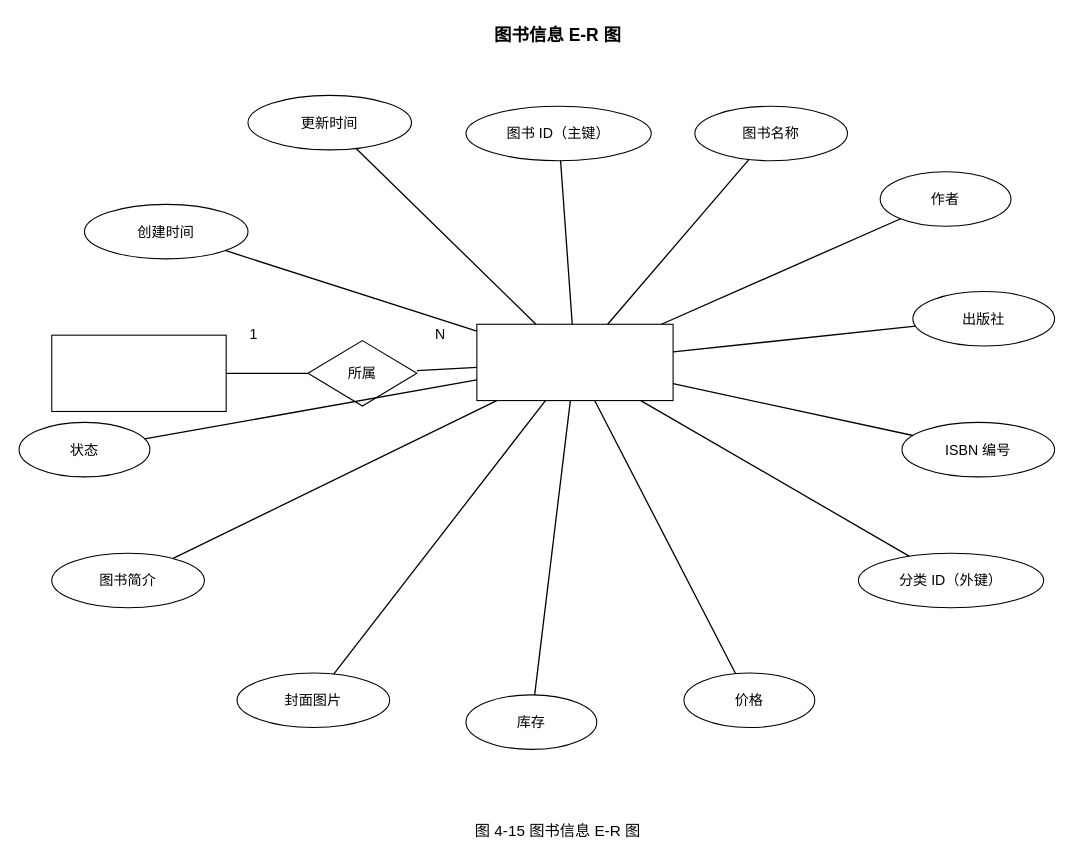
The diagram is 1074 pixels wide and 865 high, and some of its shapes have lost their labels. The centre of each missing label's shape, as x and y in pixels:
"图书信息" goes at pixel 574 362.
"图书分类" goes at pixel 138 372.
